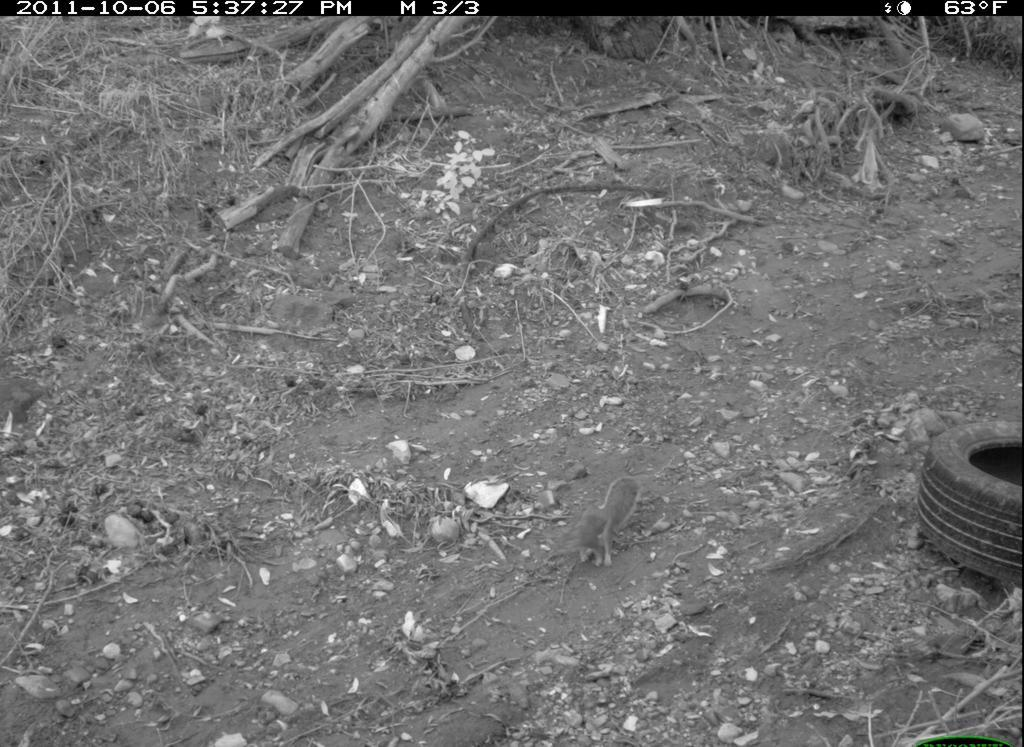squirrel: (573, 464, 661, 580)
